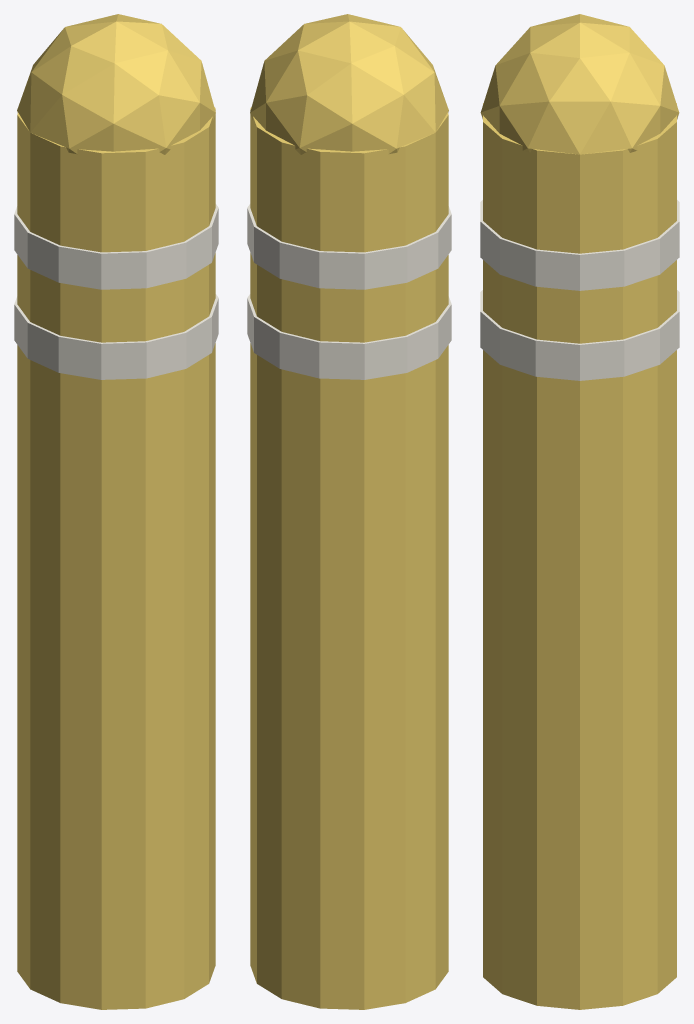
The model's file is bollard.glb.
3 renders of one model, left to right at view 1: azimuth 30°, elevation 25°; view 2: azimuth 150°, elevation 25°; view 3: azimuth 270°, elevation 25°, orthographic.
Visible parts, largest first — view 1: bollard_accent, bollard_trim; view 2: bollard_accent, bollard_trim; view 3: bollard_accent, bollard_trim.
Boxes of the visible parts, left/top/right/bottom form: bollard_accent: left=17, top=14, right=215, bottom=1009; bollard_trim: left=14, top=204, right=218, bottom=379; bollard_accent: left=250, top=14, right=448, bottom=1009; bollard_trim: left=247, top=204, right=451, bottom=379; bollard_accent: left=480, top=14, right=679, bottom=1009; bollard_trim: left=480, top=200, right=679, bottom=380.
Bounding box in the file's own units: 0.206 × 1.05 × 0.2008.
